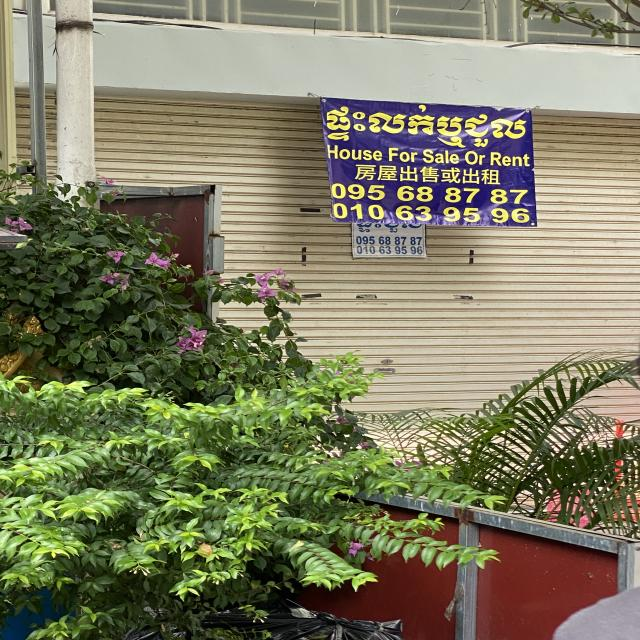Yolov11kh: (320, 100, 535, 150)
